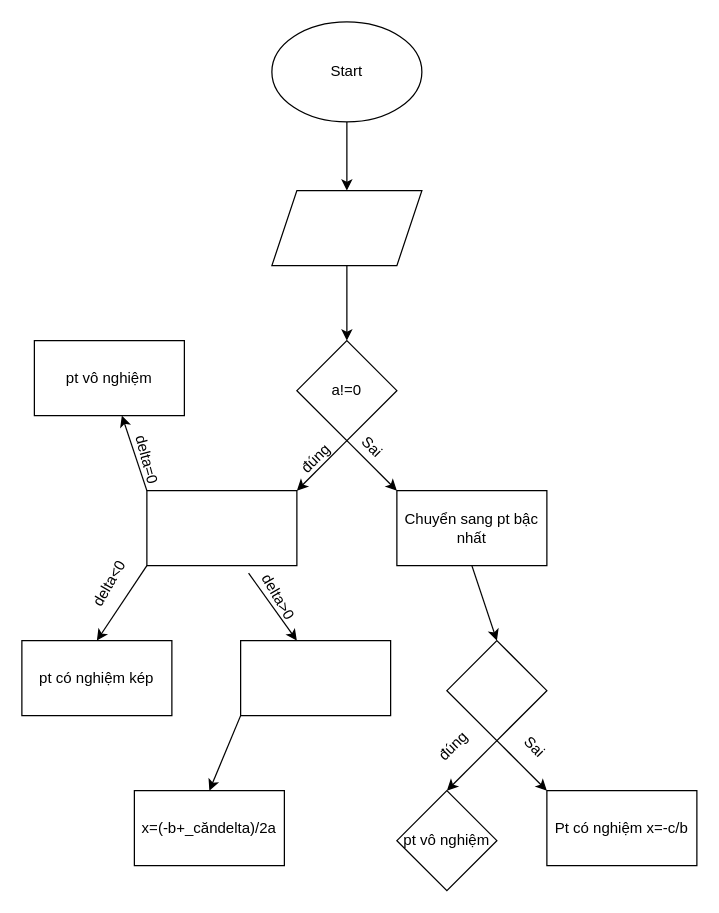
The diagram is 719 pixels wide and 913 high, and some of its shapes have lost their labels. The shapes that lost their labels are listed below. From the top down, each one's centre as x and y in pixels, then its label:
point (346, 227): nhập a,b,c
point (221, 527): TÍnh delta
point (315, 677): pt có 2 nghiệm phân biệt
point (496, 690): b=0
